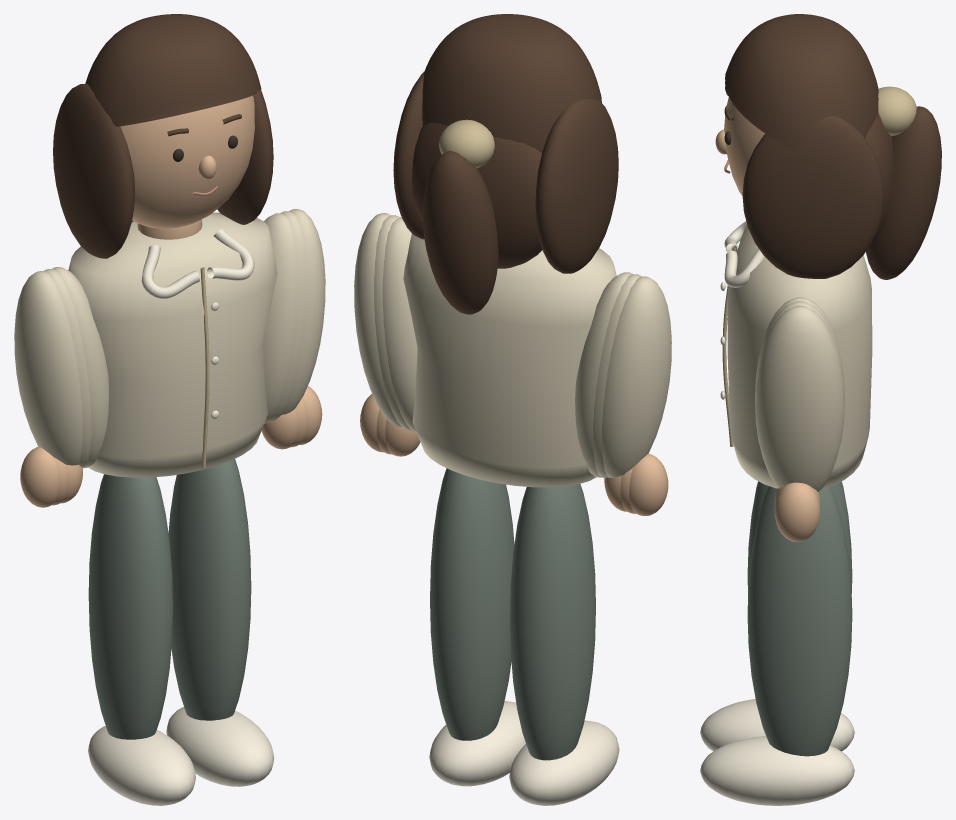
File: resident-v2.glb
3 views of the same model, side by side, from view 1: azimuth 30°, elevation 25°; view 2: azimuth 150°, elevation 25°; view 3: azimuth 270°, elevation 25° (orthographic). The views are drawn at different scales.
Parts seen in each view (by area): view 1: Soft cotton jacket.001, Trouser leg, Trouser leg.001, Hair cap.001, Head.001, Bob side, Sleeve.002, Sneaker, Sneaker.001, Sleeve.001, Sleeve.003, Sleeve (+11 smaller); view 2: Soft cotton jacket.001, Trouser leg, Trouser leg.001, Hair cap.001, Bob side, Sleeve.002, Low ponytail, Bob back, Sneaker, Sleeve.001, Sneaker.001, Sleeve.003 (+8 smaller); view 3: Trouser leg.001, Bob side.001, Soft cotton jacket.001, Hair cap.001, Sleeve.003, Sneaker.001, Low ponytail, Sneaker, Hand.003, Head.001, Ponytail tie, Bob back (+5 smaller).
Boxes of the visible parts, <box> form: Soft cotton jacket.001: <box>68,212,277,477</box>; Trouser leg: <box>88,474,172,739</box>; Trouser leg.001: <box>168,459,251,720</box>; Hair cap.001: <box>85,14,261,125</box>; Head.001: <box>120,95,254,228</box>; Bob side: <box>53,84,134,258</box>; Sleeve.002: <box>14,271,82,465</box>; Sneaker: <box>88,726,195,805</box>; Sneaker.001: <box>166,707,274,786</box>; Sleeve.001: <box>263,213,297,423</box>; Sleeve.003: <box>282,209,325,414</box>; Sleeve: <box>52,267,109,468</box>; Soft cotton jacket.001: <box>403,234,616,487</box>; Trouser leg: <box>510,484,595,760</box>; Trouser leg.001: <box>430,468,514,740</box>; Hair cap.001: <box>422,14,601,152</box>; Bob side: <box>535,99,618,273</box>; Sleeve.002: <box>602,276,671,477</box>; Low ponytail: <box>422,151,498,314</box>; Bob back: <box>412,122,542,268</box>; Sneaker: <box>509,720,619,805</box>; Sleeve.001: <box>382,217,417,432</box>; Sneaker.001: <box>429,701,525,786</box>; Sleeve.003: <box>354,213,401,426</box>; Trouser leg.001: <box>747,486,852,756</box>; Bob side.001: <box>742,116,884,278</box>; Soft cotton jacket.001: <box>727,226,872,488</box>; Hair cap.001: <box>725,14,878,150</box>; Sleeve.003: <box>755,305,844,491</box>; Sneaker.001: <box>700,736,854,805</box>; Low ponytail: <box>866,106,941,279</box>; Sneaker: <box>700,698,854,751</box>; Hand.003: <box>774,482,820,542</box>; Head.001: <box>724,97,765,195</box>; Ponytail tie: <box>878,86,916,135</box>; Bob back: <box>865,113,893,241</box>.
Size of the model in its own units: 0.6927 by 1.67 by 0.4842.
